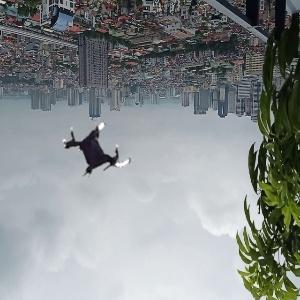drone: (60, 111, 136, 187)
